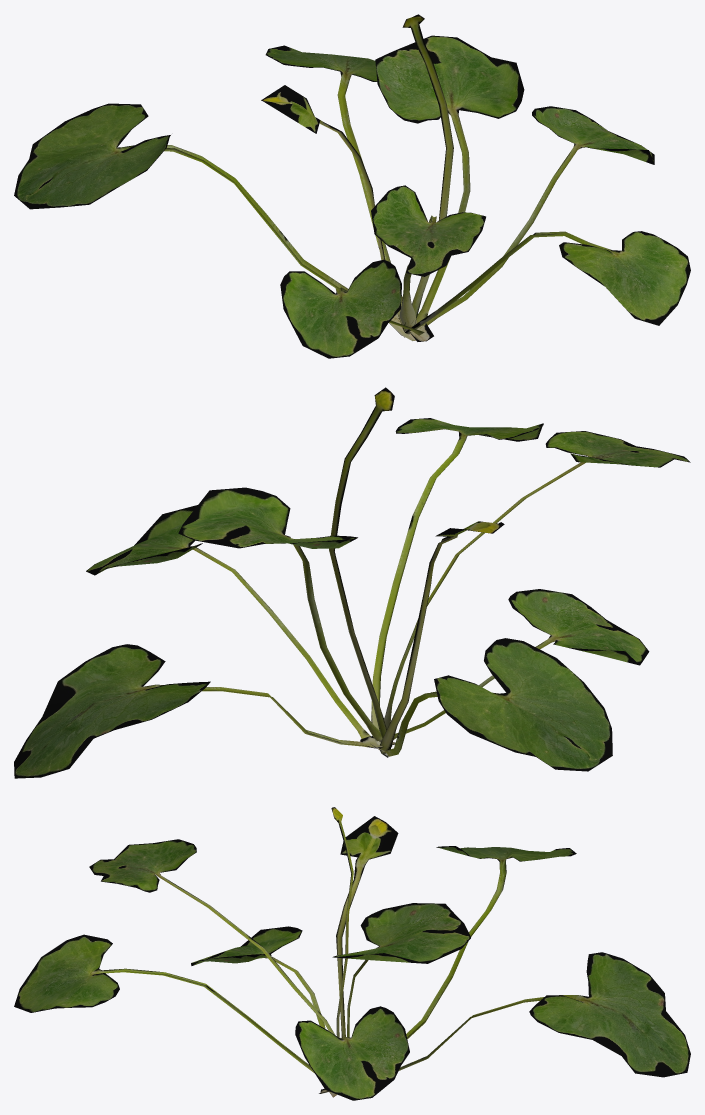
Rendered from celandine_01_1.gltf.
3 renders of one model, top to bottom at view 1: azimuth 30°, elevation 25°; view 2: azimuth 150°, elevation 25°; view 3: azimuth 270°, elevation 25°, orthographic. The views are drawn at different scales.
Parts seen in each view (by area): view 1: celandine_01_b_LOD0; view 2: celandine_01_b_LOD0; view 3: celandine_01_b_LOD0.
Boxes of the visible parts, <box> form: celandine_01_b_LOD0: <box>14,14,690,358</box>; celandine_01_b_LOD0: <box>14,387,690,778</box>; celandine_01_b_LOD0: <box>14,807,690,1100</box>.
Size of the model in its own units: 0.2517 by 0.1445 by 0.3067.
Materials: 1 (1 with a texture image).
